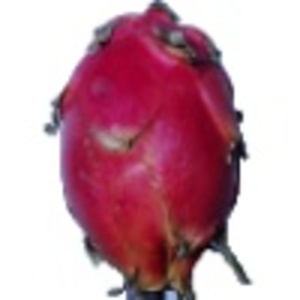pitaia: (45, 1, 252, 300)
